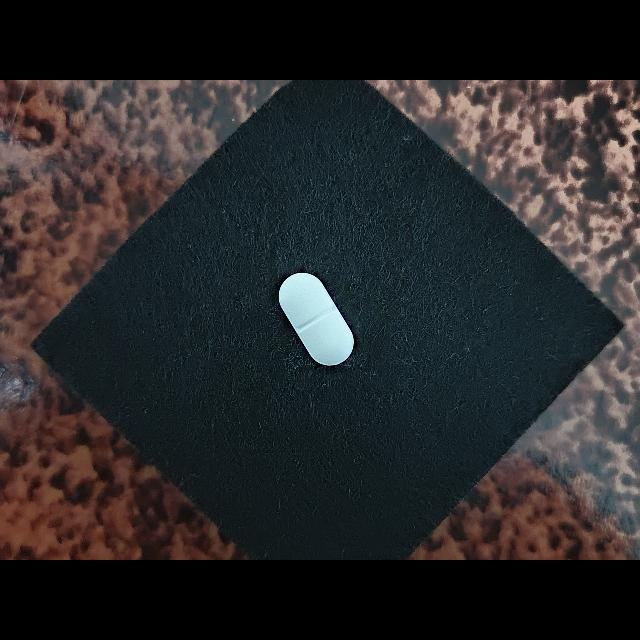Intact Pill: (278, 273, 354, 366)
